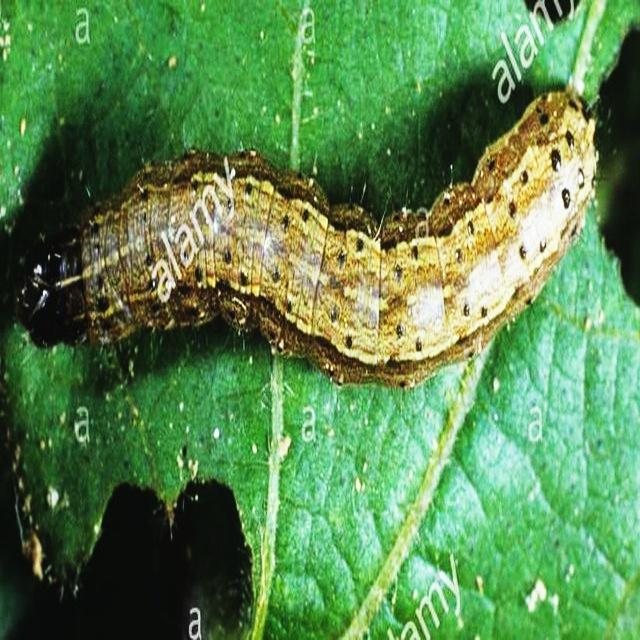Plaga: (16, 91, 598, 391)
